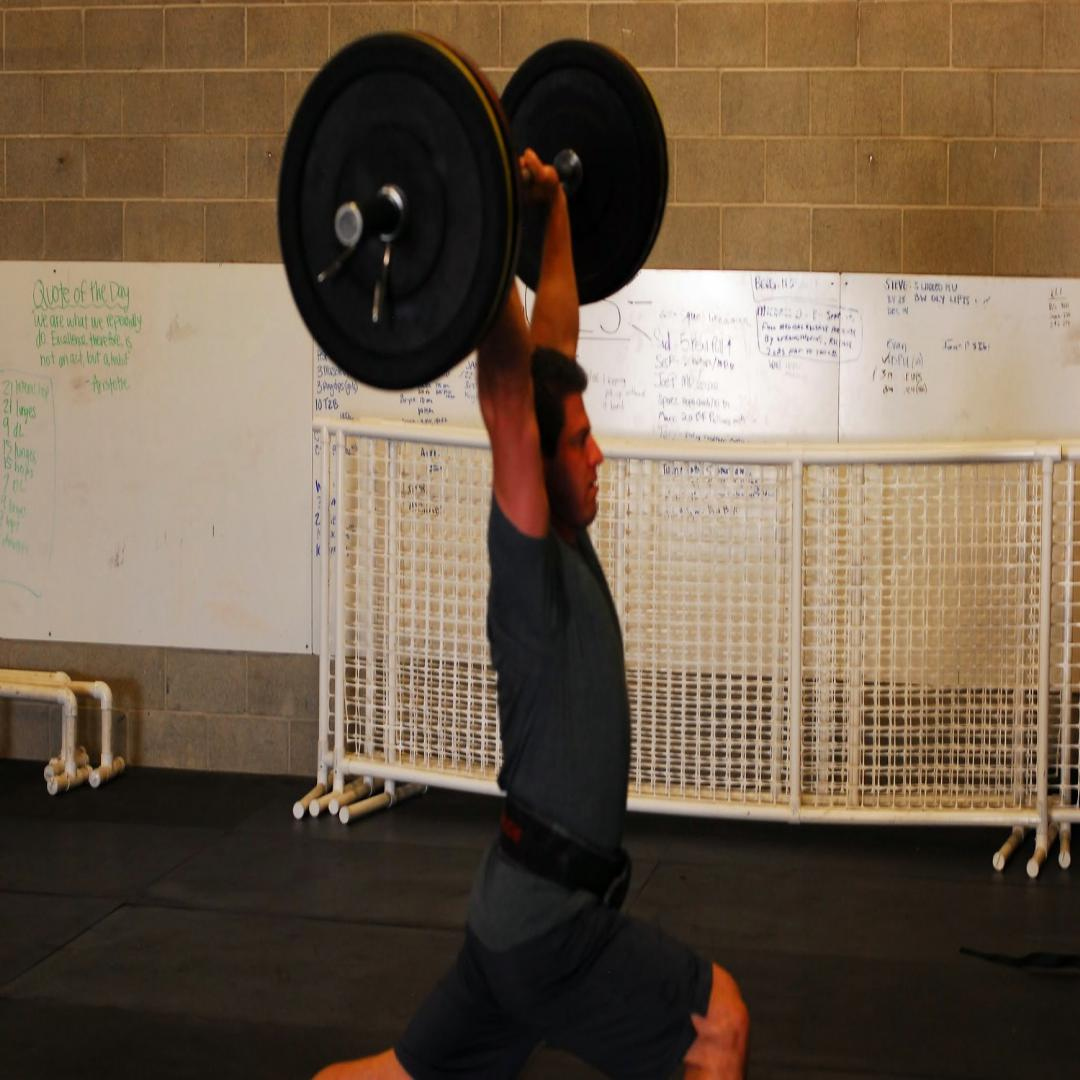Bar: (334, 202, 363, 246)
Barbell: (279, 33, 504, 388)
